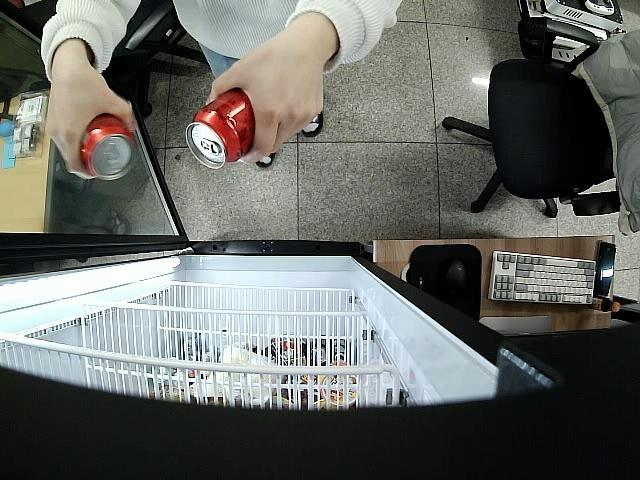11_cocaColaZero: (184, 86, 255, 168), (80, 115, 137, 180)
